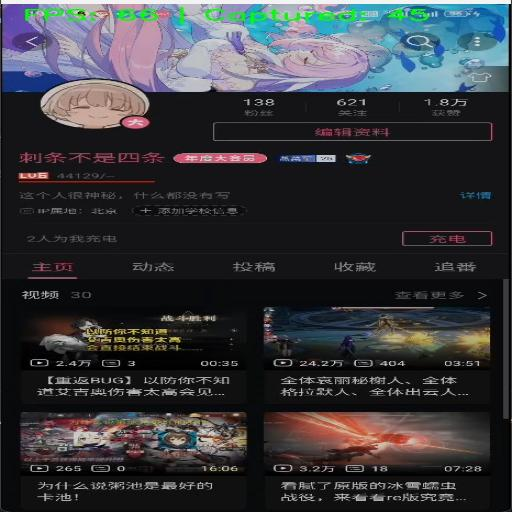back: (16, 30, 50, 50)
butten: (262, 299, 492, 409), (19, 297, 245, 406), (325, 258, 403, 278), (22, 254, 84, 278), (220, 258, 283, 277), (421, 258, 485, 276), (132, 254, 181, 274), (454, 34, 502, 51), (443, 190, 503, 203)
